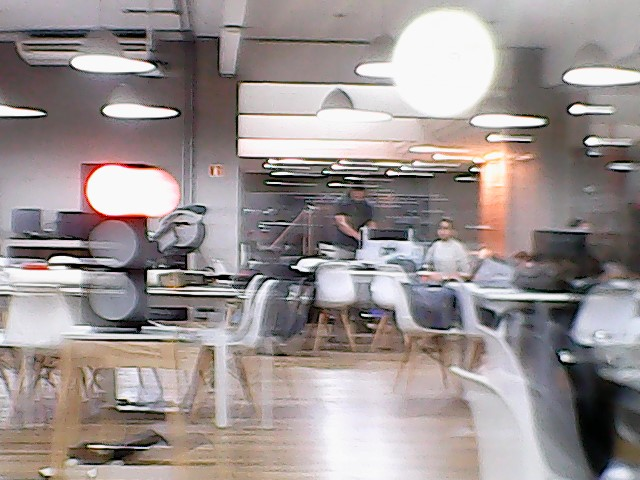vermelho: (72, 155, 153, 334)
